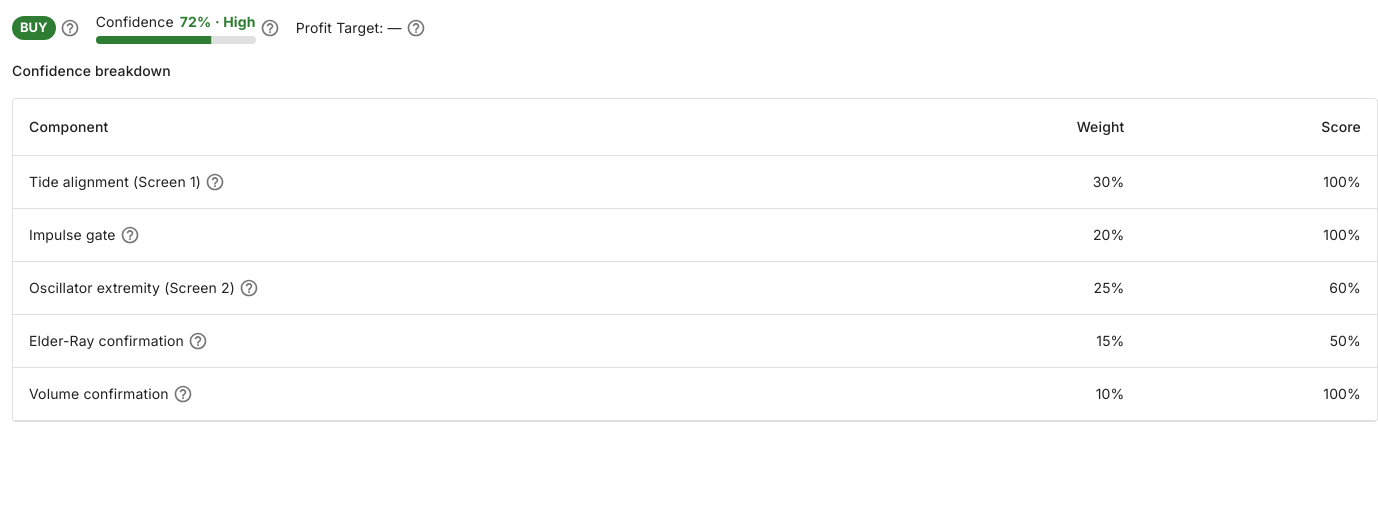
Test: SignalSummary › clicking a BUY signal opens a balloon explaining every condition as met
Click the button with aria-label "Why BUY?" at (34, 28), box [12,16,56,40]
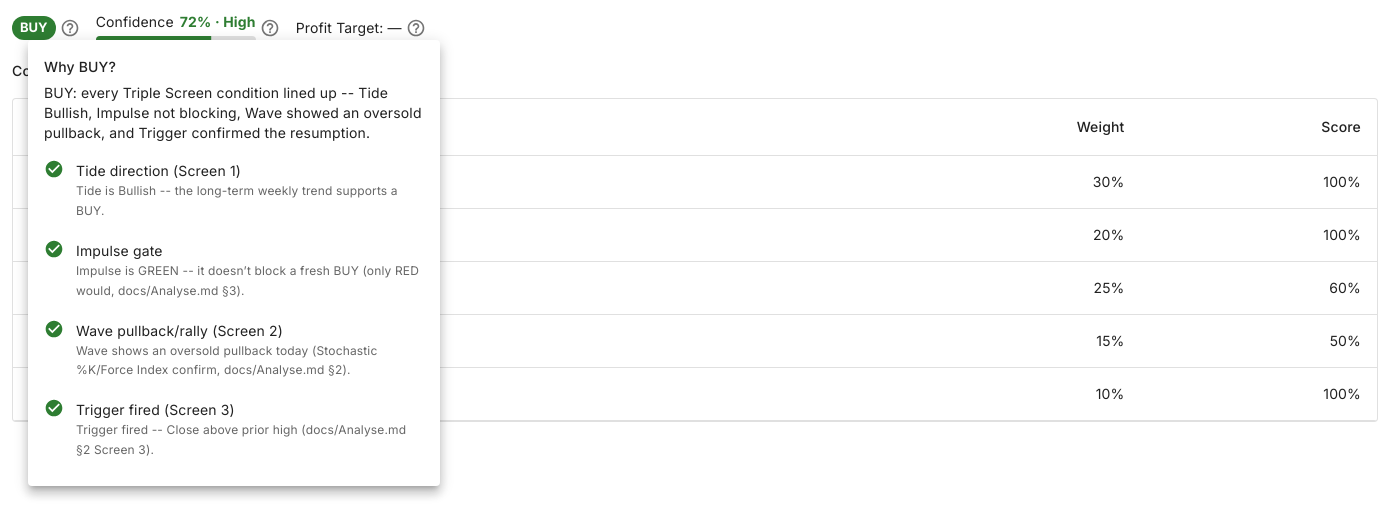
Check: the text "BUY: every Triple Screen condition lined up" is shown, box [44,84,422,141]
Check: the text "Wave shows an oversold pullback today" is shown, box [76,343,377,378]
